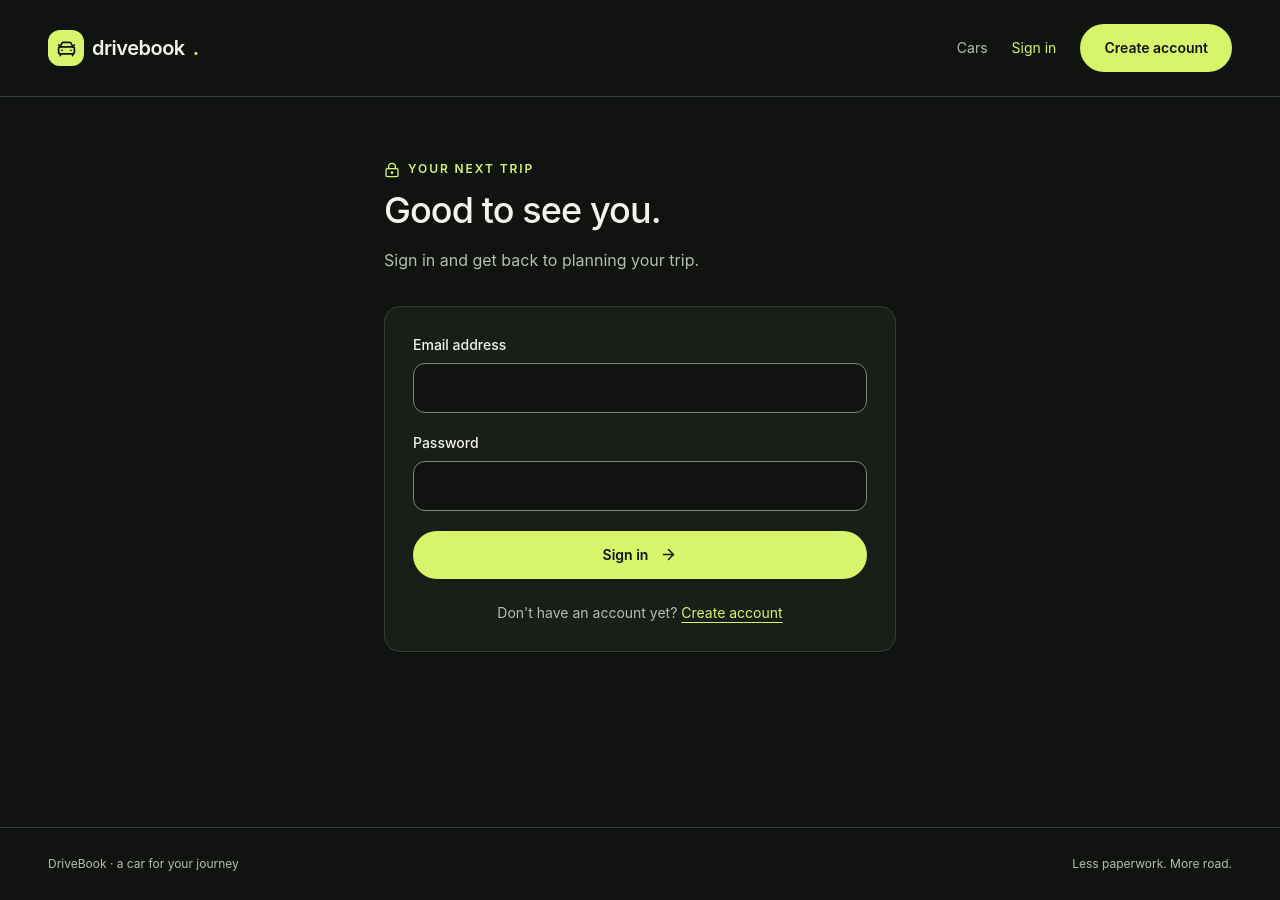
Test: login › shows field errors, keeps focus on the submit button and marks the field invalid on 422
Type "demo@drivebook.test" into the field labelled "Email address" at (640, 388), box [413,363,867,413]
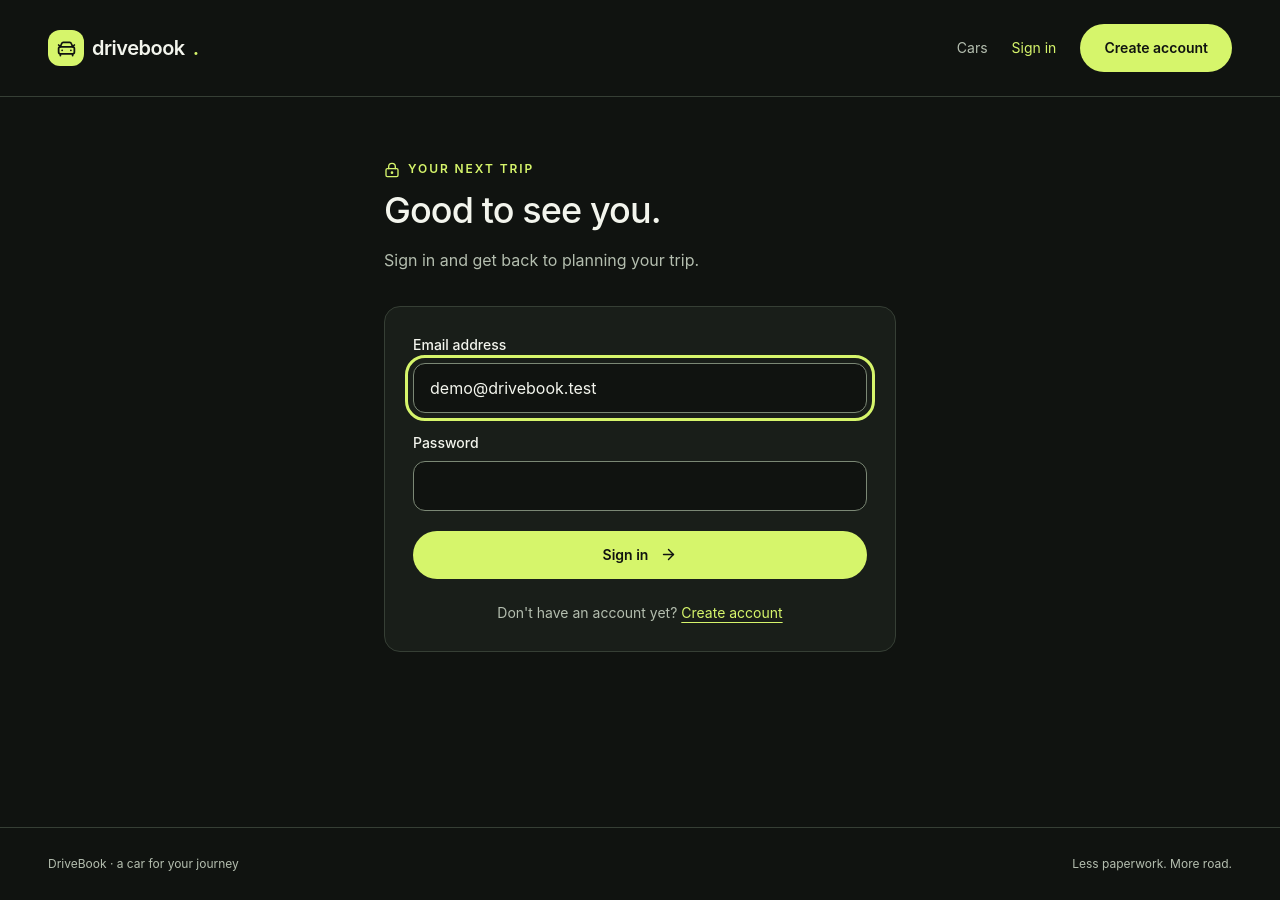
Type "demo-password-123" into the password field labelled "Password" at (640, 486), box [413,461,867,511]
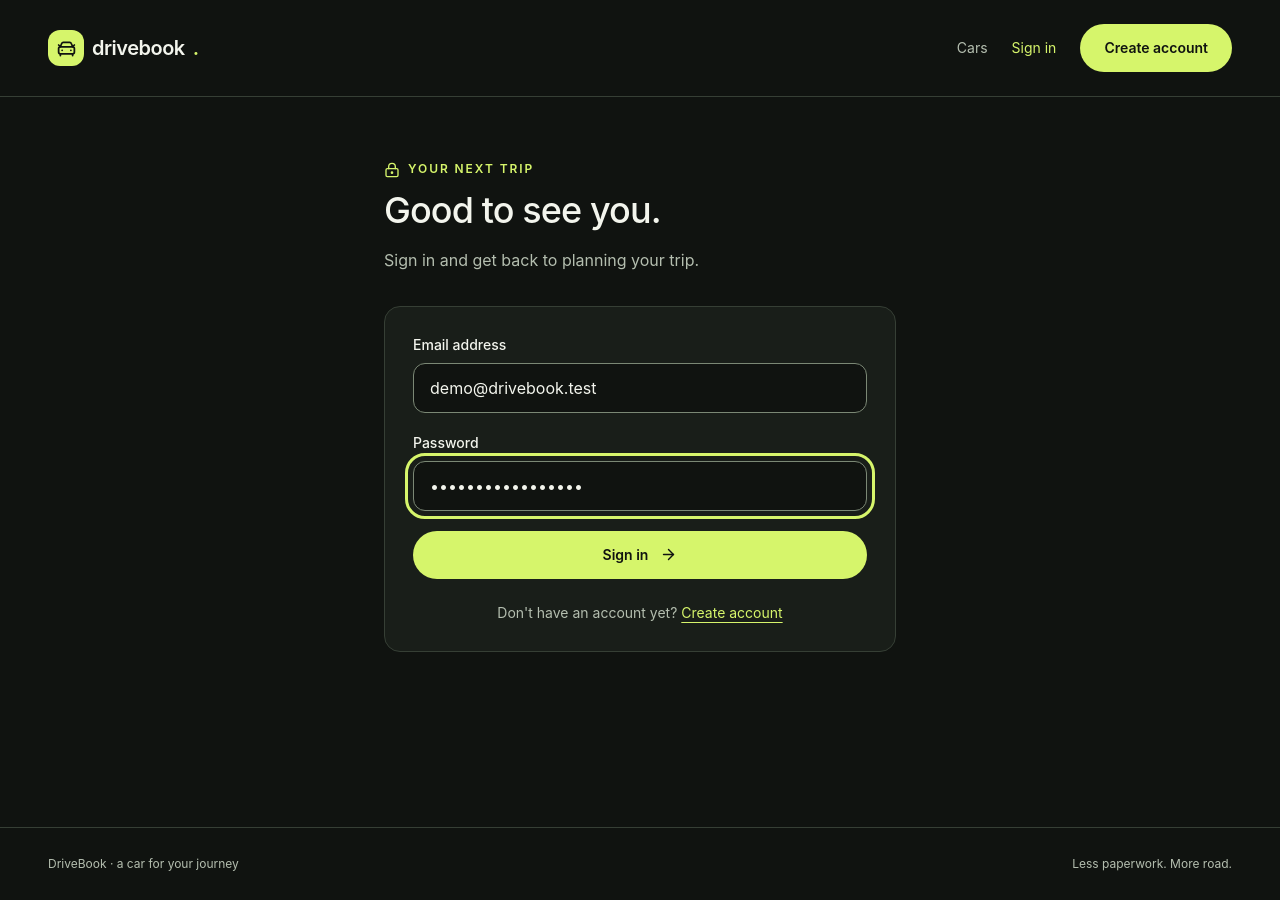
Click the button "Sign in" at (640, 555), box [413,531,867,579]
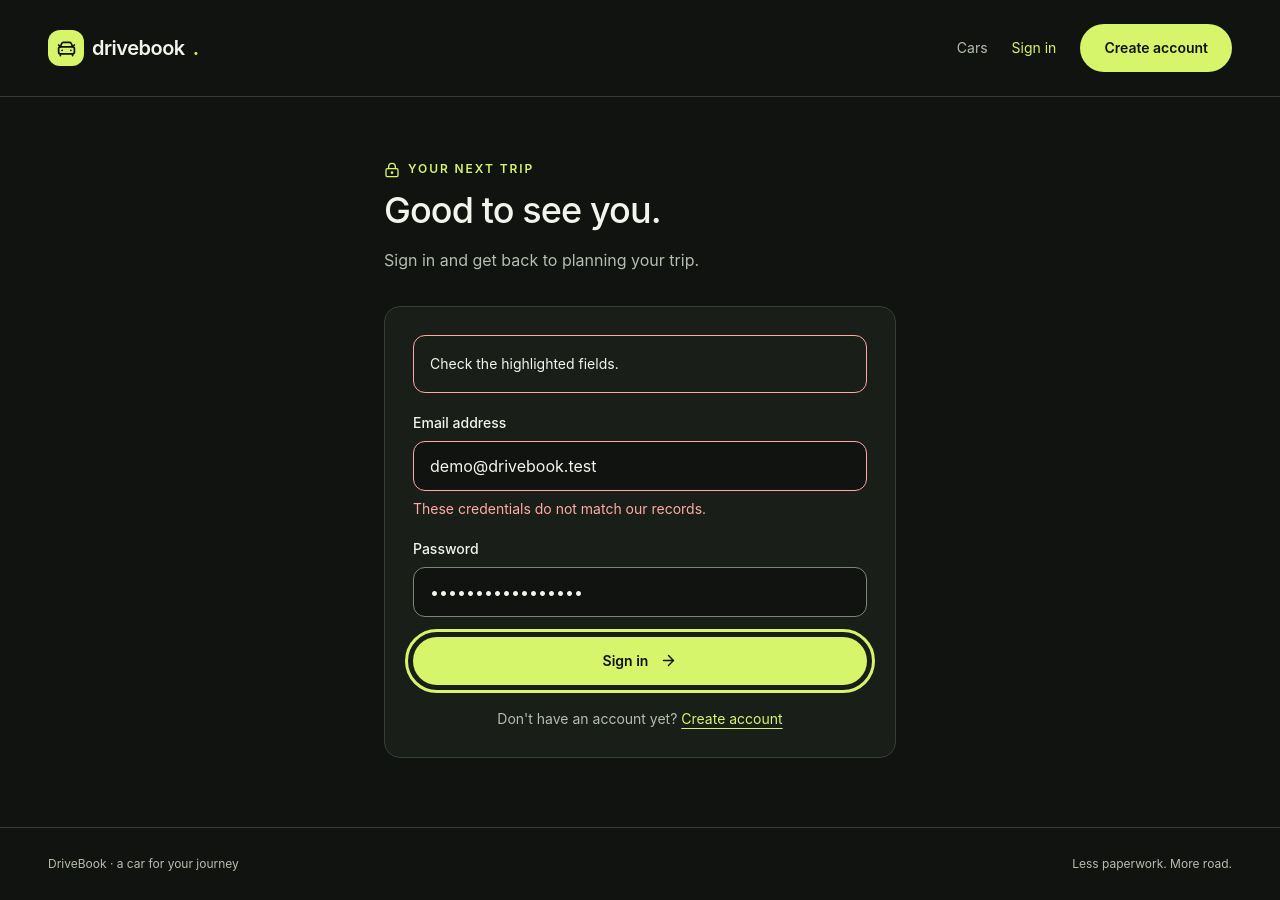
expect the message reads "Check the highlighted fields.": met, box [430,355,619,372]
